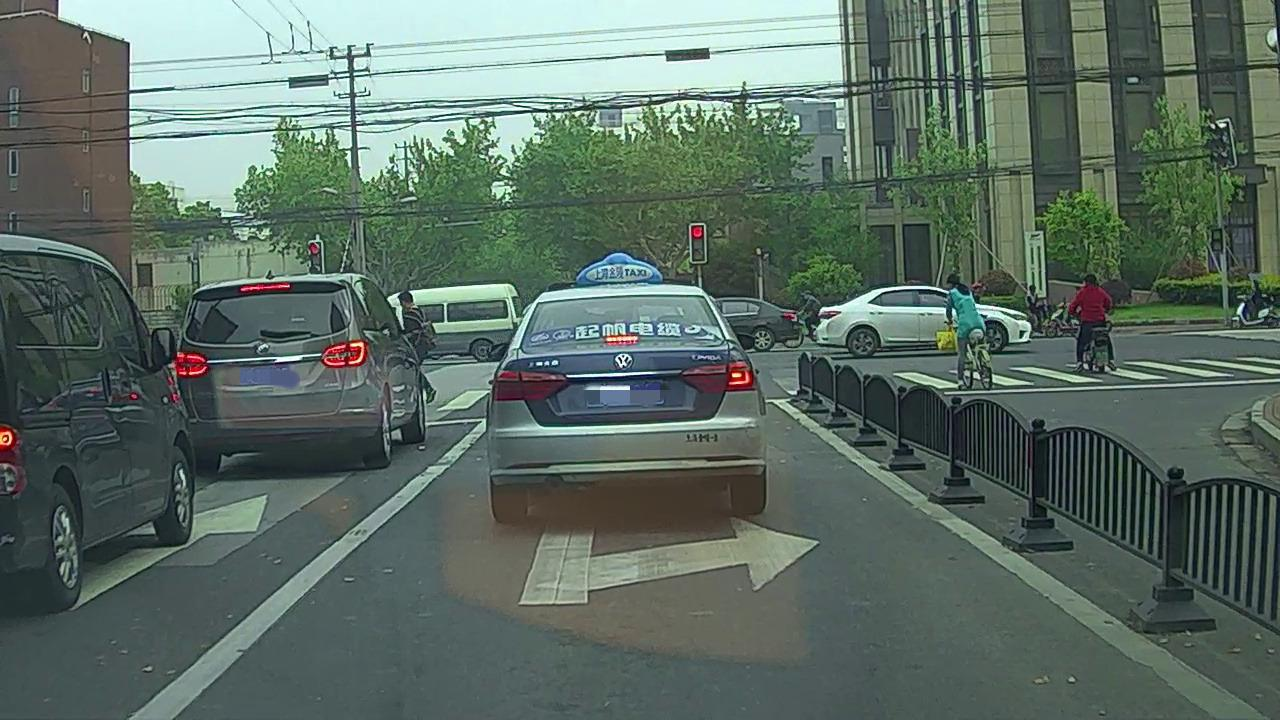traffic_light: (689, 225, 704, 261), (309, 242, 322, 273)
